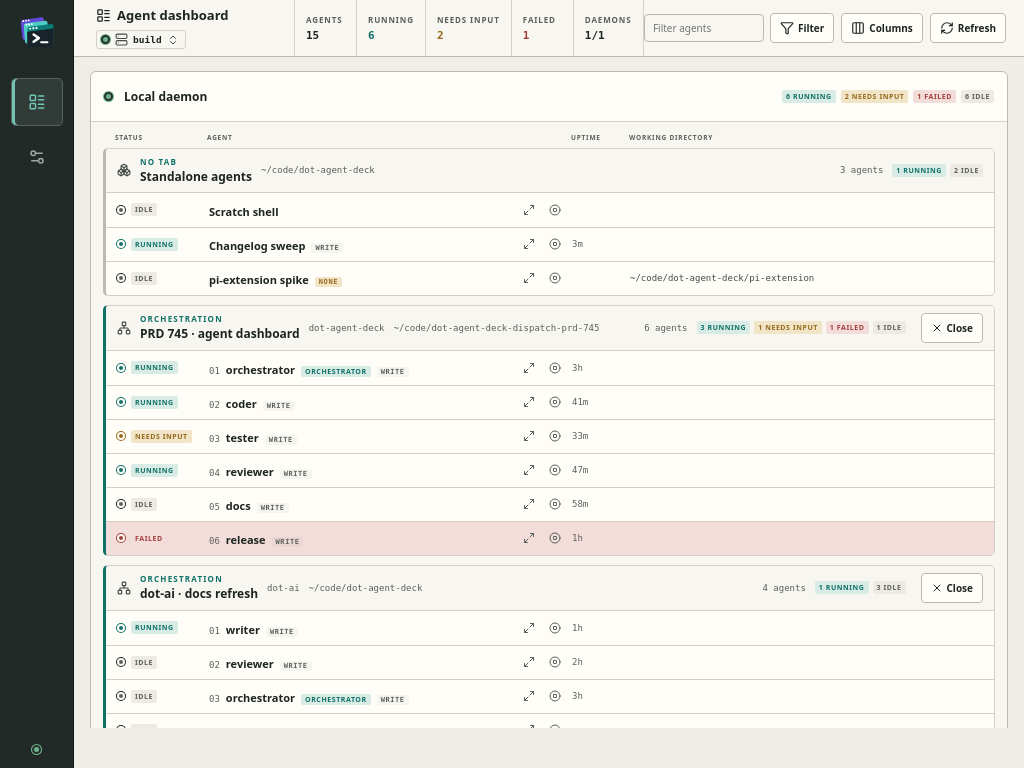
it: DeckSelector › shows remote deck names with address fallback without changing This machine
expect the text with test id "deck-selector-current" reads "build": met, box [133, 34, 162, 45]
Step 1. Click the button with test id "deck-selector-toggle" → (141, 40), box [96, 30, 186, 49]
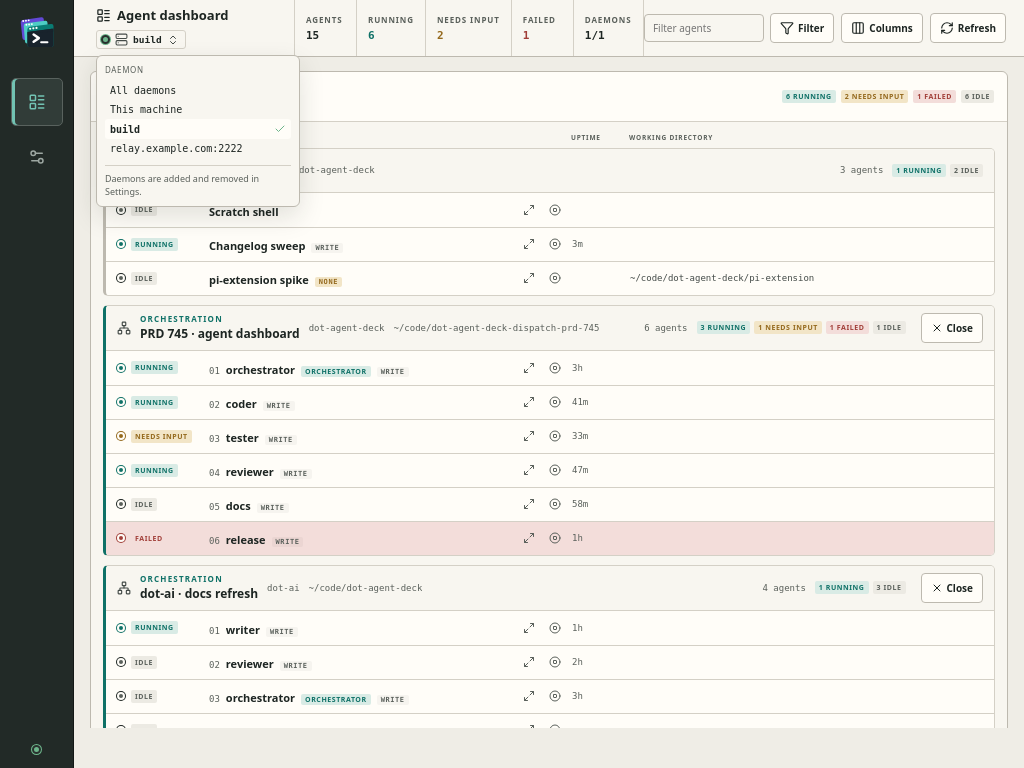
expect the radio buttons read "All daemons", "This machine", "build", "relay.example.com:2222", in this order: met, box [105, 81, 291, 100]; [105, 100, 291, 119]; [105, 119, 291, 139]; [105, 139, 291, 158]
